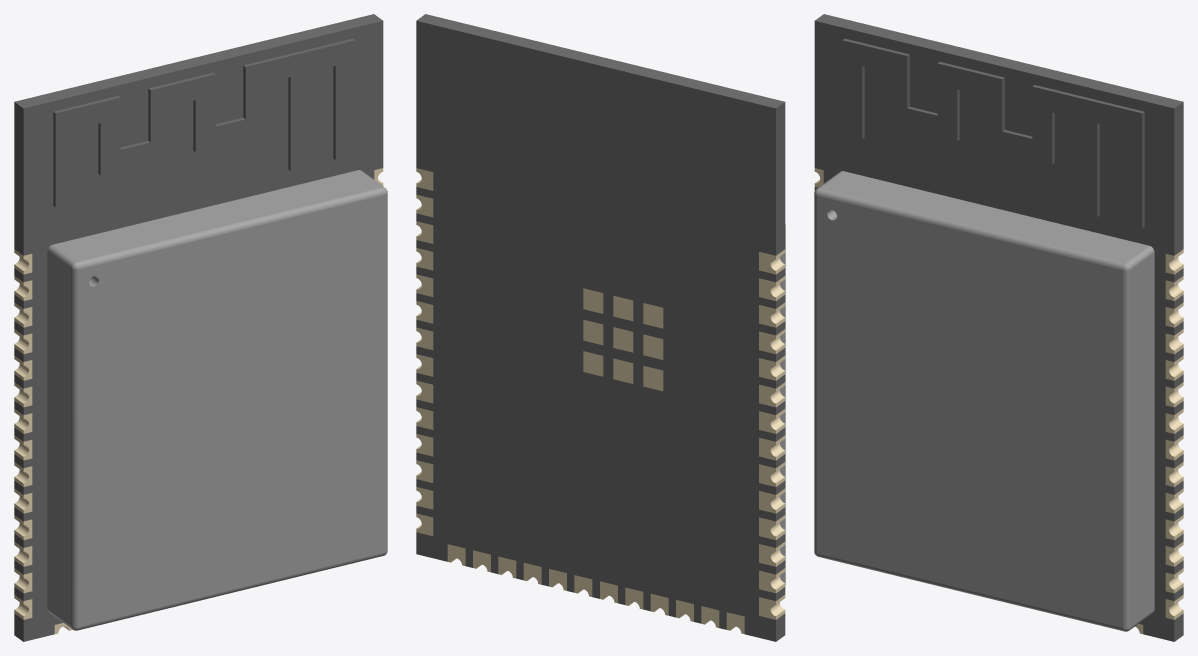
The model's file is ESP32-S3-WROOM-2.glb.
The picture shows the model from 3 angles, left to right: view 1: azimuth 30°, elevation 25°; view 2: azimuth 150°, elevation 25°; view 3: azimuth 330°, elevation 25°; orthographic projection.
Visible parts, largest first — view 1: Shape_IndexedFaceSet.300, Shape_IndexedFaceSet.004, Shape_IndexedFaceSet.299, Shape_IndexedFaceSet.138, Shape_IndexedFaceSet.144, Shape_IndexedFaceSet, Shape_IndexedFaceSet.292, Shape_IndexedFaceSet.298, Shape_IndexedFaceSet.001, Shape_IndexedFaceSet.294, Shape_IndexedFaceSet.296; view 2: Shape_IndexedFaceSet.003, Shape_IndexedFaceSet, Shape_IndexedFaceSet.001, Shape_IndexedFaceSet.138; view 3: Shape_IndexedFaceSet.300, Shape_IndexedFaceSet.004, Shape_IndexedFaceSet.299, Shape_IndexedFaceSet.142, Shape_IndexedFaceSet.144, Shape_IndexedFaceSet, Shape_IndexedFaceSet.296, Shape_IndexedFaceSet.298, Shape_IndexedFaceSet.002, Shape_IndexedFaceSet.294, Shape_IndexedFaceSet.292.
Boxes of the visible parts, <box> form: Shape_IndexedFaceSet.300: <box>79,195,384,626</box>; Shape_IndexedFaceSet.004: <box>23,21,383,641</box>; Shape_IndexedFaceSet.299: <box>55,40,355,207</box>; Shape_IndexedFaceSet.138: <box>47,251,70,625</box>; Shape_IndexedFaceSet.144: <box>53,170,381,261</box>; Shape_IndexedFaceSet: <box>14,14,382,108</box>; Shape_IndexedFaceSet.292: <box>71,268,78,627</box>; Shape_IndexedFaceSet.298: <box>76,187,384,269</box>; Shape_IndexedFaceSet.001: <box>14,102,23,255</box>; Shape_IndexedFaceSet.294: <box>78,552,384,630</box>; Shape_IndexedFaceSet.296: <box>385,193,387,552</box>; Shape_IndexedFaceSet.003: <box>416,21,775,641</box>; Shape_IndexedFaceSet: <box>416,14,784,108</box>; Shape_IndexedFaceSet.001: <box>776,102,785,255</box>; Shape_IndexedFaceSet.138: <box>780,253,784,582</box>; Shape_IndexedFaceSet.300: <box>817,196,1122,627</box>; Shape_IndexedFaceSet.004: <box>814,21,1174,641</box>; Shape_IndexedFaceSet.299: <box>842,40,1142,228</box>; Shape_IndexedFaceSet.142: <box>1131,252,1154,626</box>; Shape_IndexedFaceSet.144: <box>820,171,1148,262</box>; Shape_IndexedFaceSet: <box>815,14,1183,108</box>; Shape_IndexedFaceSet.296: <box>1123,269,1130,628</box>; Shape_IndexedFaceSet.298: <box>817,188,1125,270</box>; Shape_IndexedFaceSet.002: <box>1174,102,1183,255</box>; Shape_IndexedFaceSet.294: <box>817,553,1123,631</box>; Shape_IndexedFaceSet.292: <box>814,194,816,553</box>.
Size of the model in its own units: 7.09 by 10.04 by 1.22.
